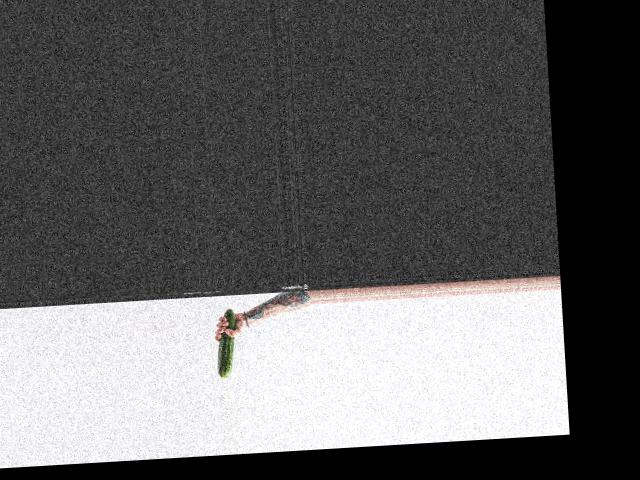cucumber: (213, 309, 238, 378)
